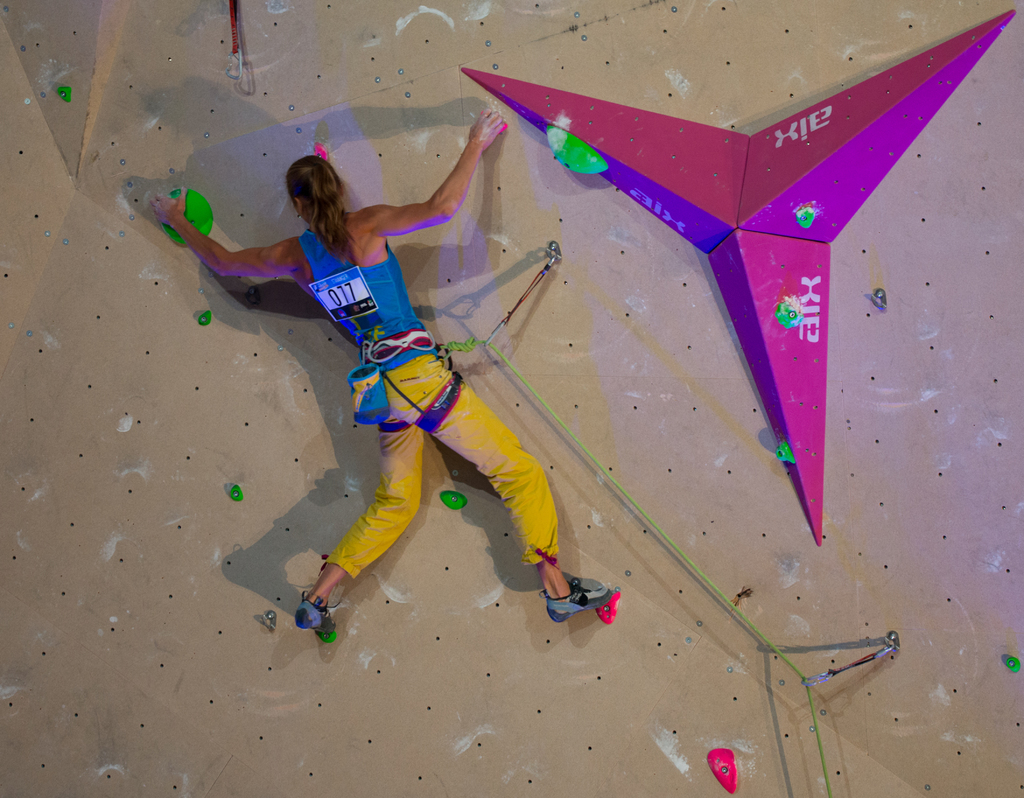Footwear: (545, 586, 611, 621), (294, 589, 336, 643)
